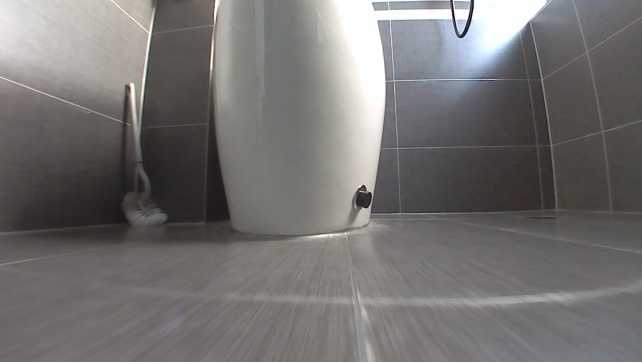toilet: (202, 0, 390, 238)
wire: (445, 0, 480, 42)
